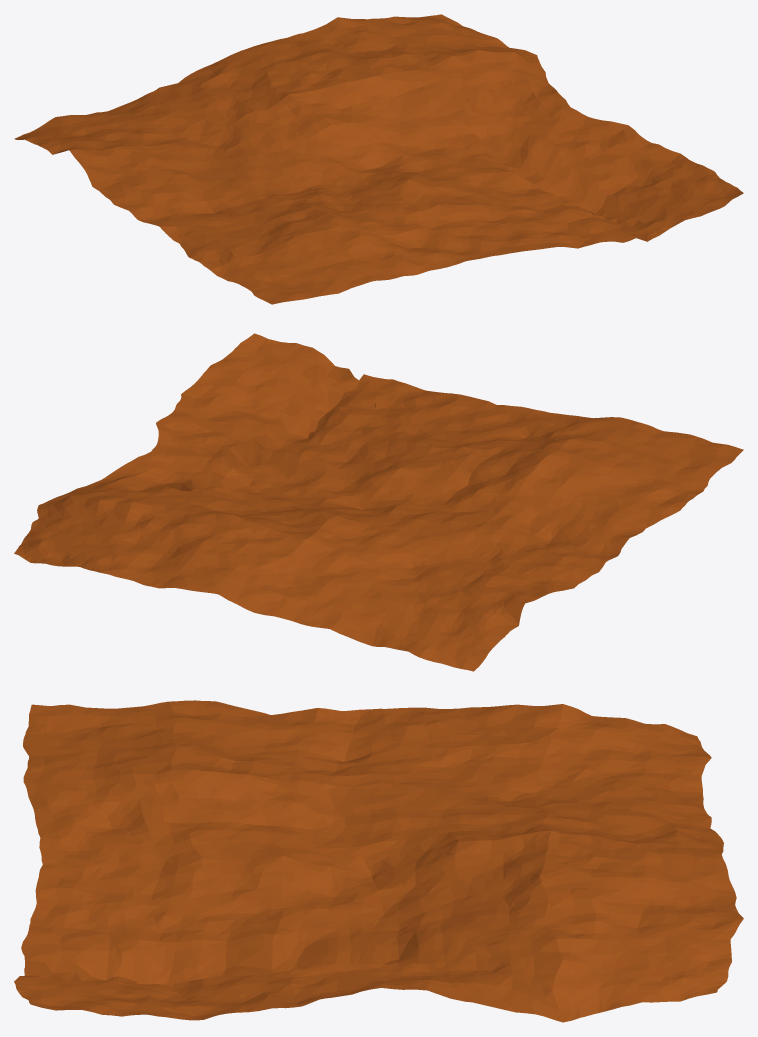
Rendered from terrain_dessert2.FBX.
3 renders of one model, top to bottom at view 1: azimuth 30°, elevation 25°; view 2: azimuth 150°, elevation 25°; view 3: azimuth 270°, elevation 25°, orthographic. The views are drawn at different scales.
Parts seen in each view (by area): view 1: Environment_1; view 2: Environment_1; view 3: Environment_1.
Part boxes in pixels (x1,y1,x2,y2): Environment_1: (14,14,743,304); Environment_1: (14,333,743,671); Environment_1: (14,700,743,1022).
Bounding box in the file's own units: 2142 × 226 × 2155.
